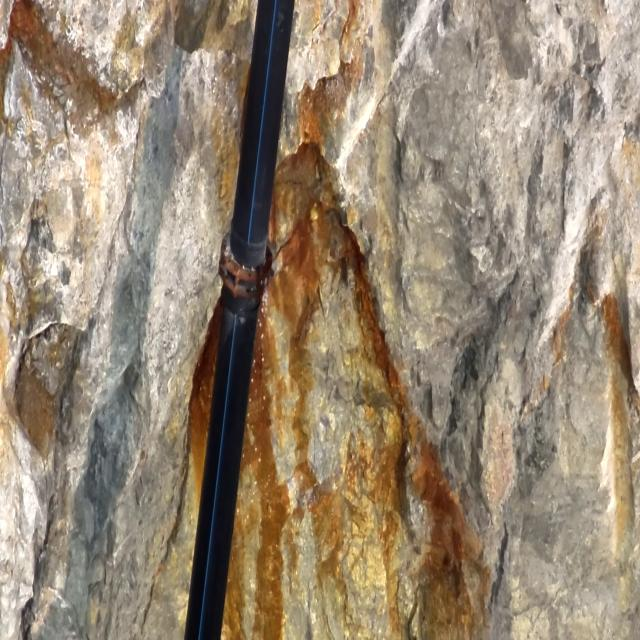leak: (245, 271, 279, 426)
